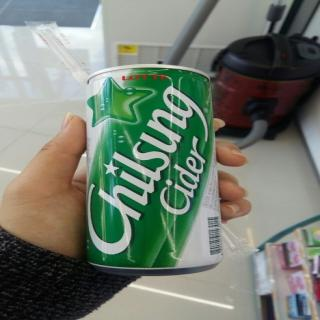chilsung: (84, 63, 230, 276)
